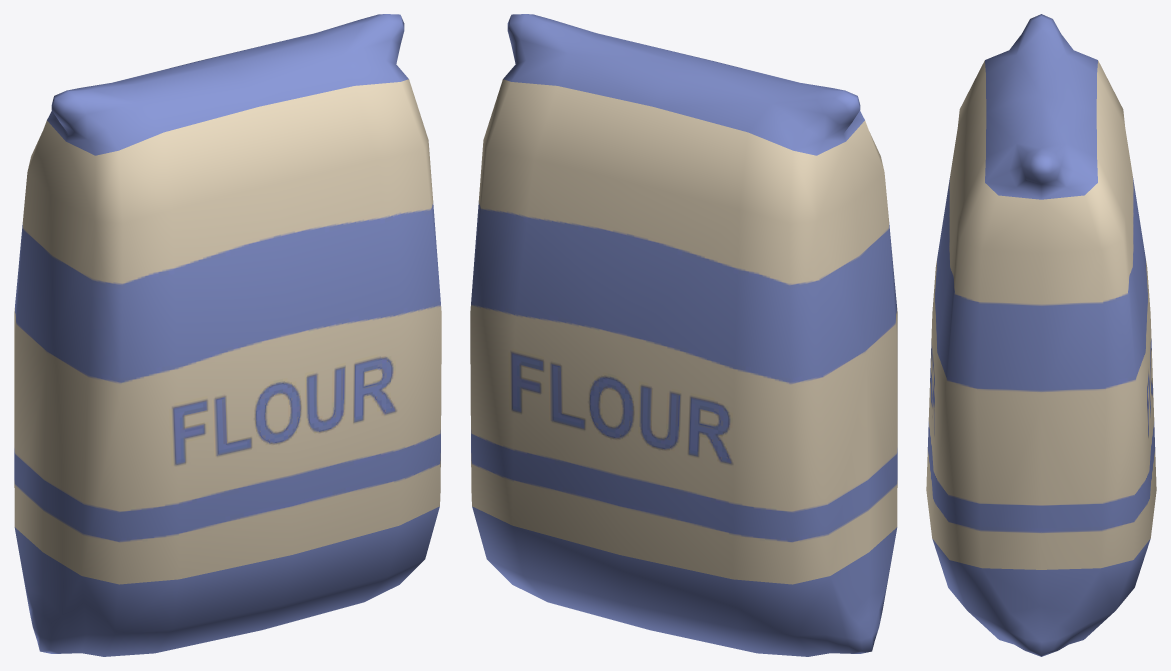
File: Flour.fbx
The picture shows the model from 3 angles, left to right: view 1: azimuth 30°, elevation 25°; view 2: azimuth 150°, elevation 25°; view 3: azimuth 270°, elevation 25°; orthographic projection. The views are drawn at different scales.
Parts seen in each view (by area): view 1: BagOfStuff; view 2: BagOfStuff; view 3: BagOfStuff.
Boxes of the visible parts, x1,y1,x2,y2 form: BagOfStuff: [14, 14, 441, 656]; BagOfStuff: [470, 14, 897, 656]; BagOfStuff: [926, 14, 1156, 656].
Bounding box in the file's own units: 0.6502 × 0.9478 × 0.3915.
